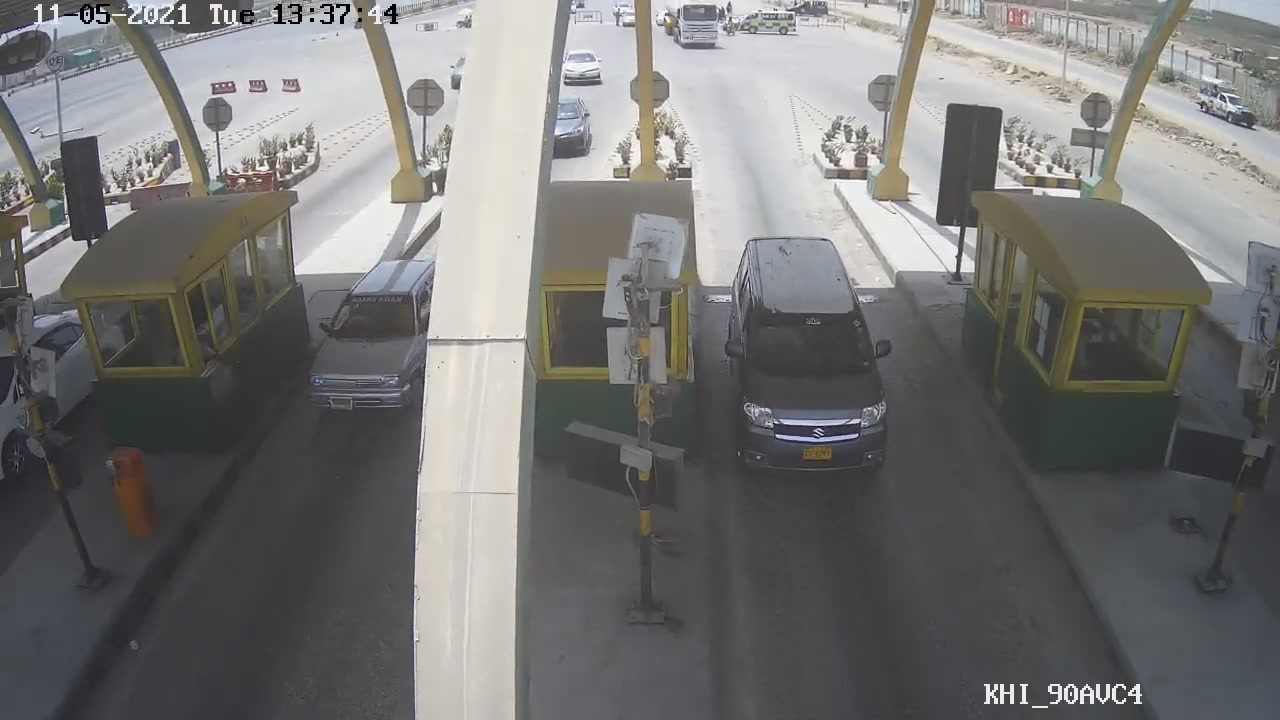F1: (720, 230, 898, 483)
